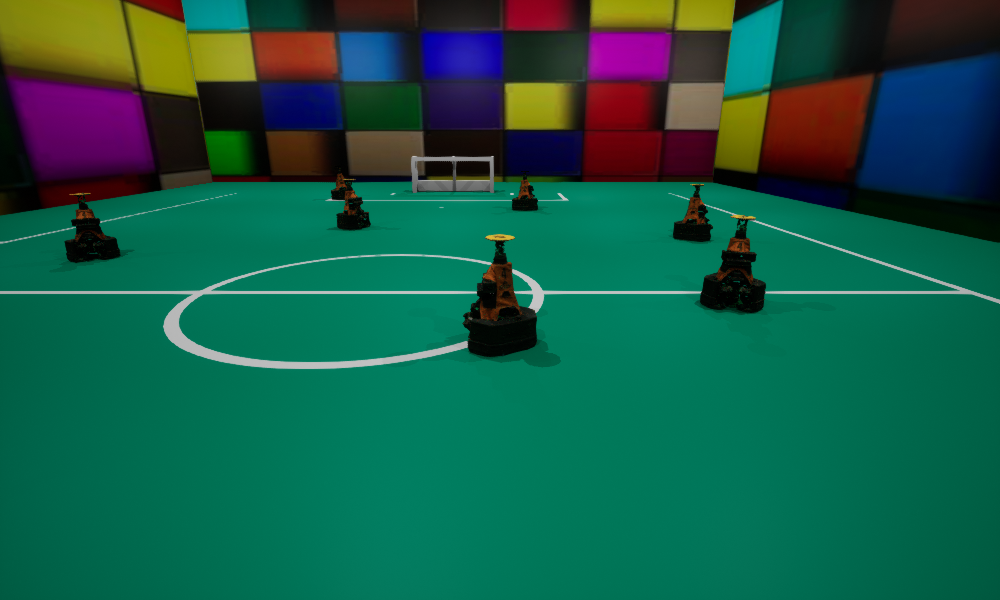o: (462, 234, 536, 356), (700, 215, 765, 311), (64, 193, 120, 262), (673, 184, 712, 241), (336, 179, 370, 229), (512, 171, 537, 210), (331, 166, 347, 199)
